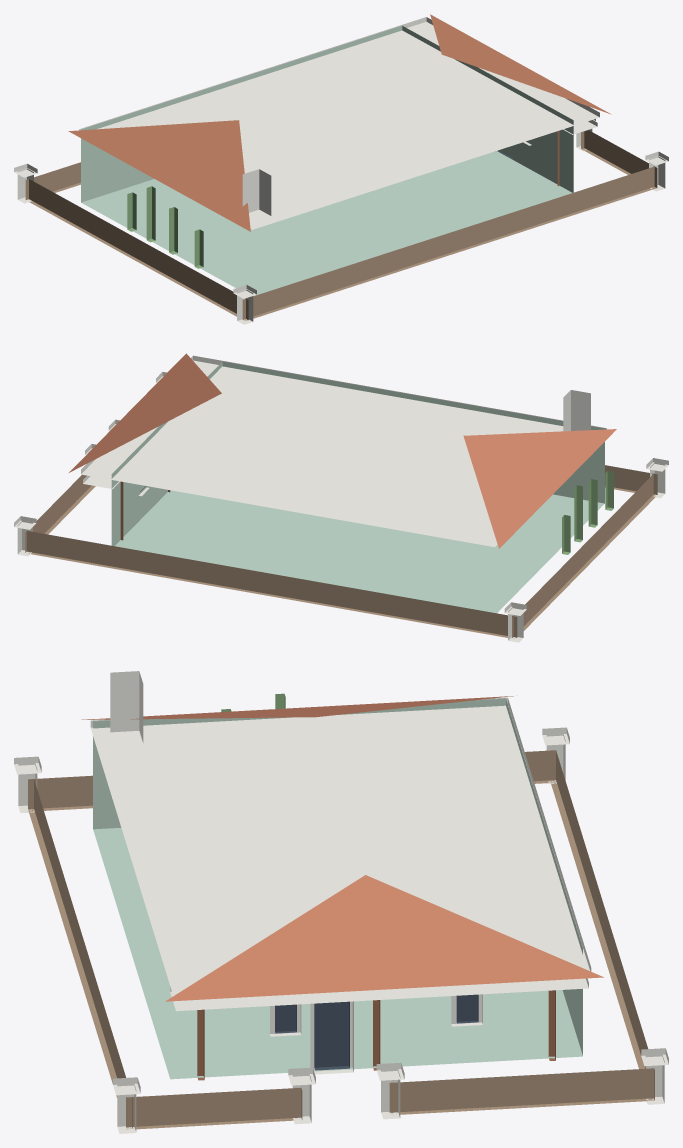
File: para_house_c.glb
The picture shows the model from 3 angles, top to bottom: view 1: azimuth 30°, elevation 25°; view 2: azimuth 150°, elevation 25°; view 3: azimuth 270°, elevation 25°; orthographic projection. The views are drawn at different scales.
Parts seen in each view (by area): view 1: para_house_c_lod0; view 2: para_house_c_lod0; view 3: para_house_c_lod0.
Part boxes in pixels (x1,y1,x2,y2): para_house_c_lod0: (14, 14, 668, 324); para_house_c_lod0: (14, 353, 668, 642); para_house_c_lod0: (14, 671, 668, 1133).
Size of what is drawn, in the model's own units: 22.06 by 4.65 by 16.89.
